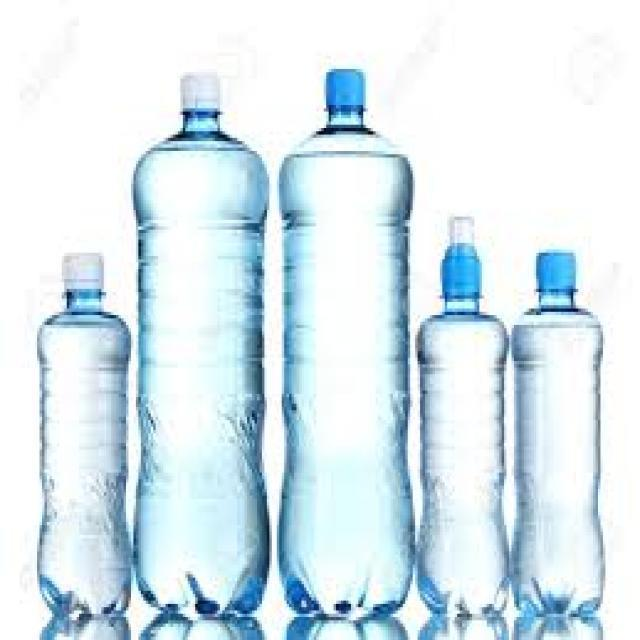Plastic: (129, 70, 271, 624), (276, 67, 416, 619), (414, 213, 510, 616), (511, 245, 609, 622), (38, 252, 134, 621)
